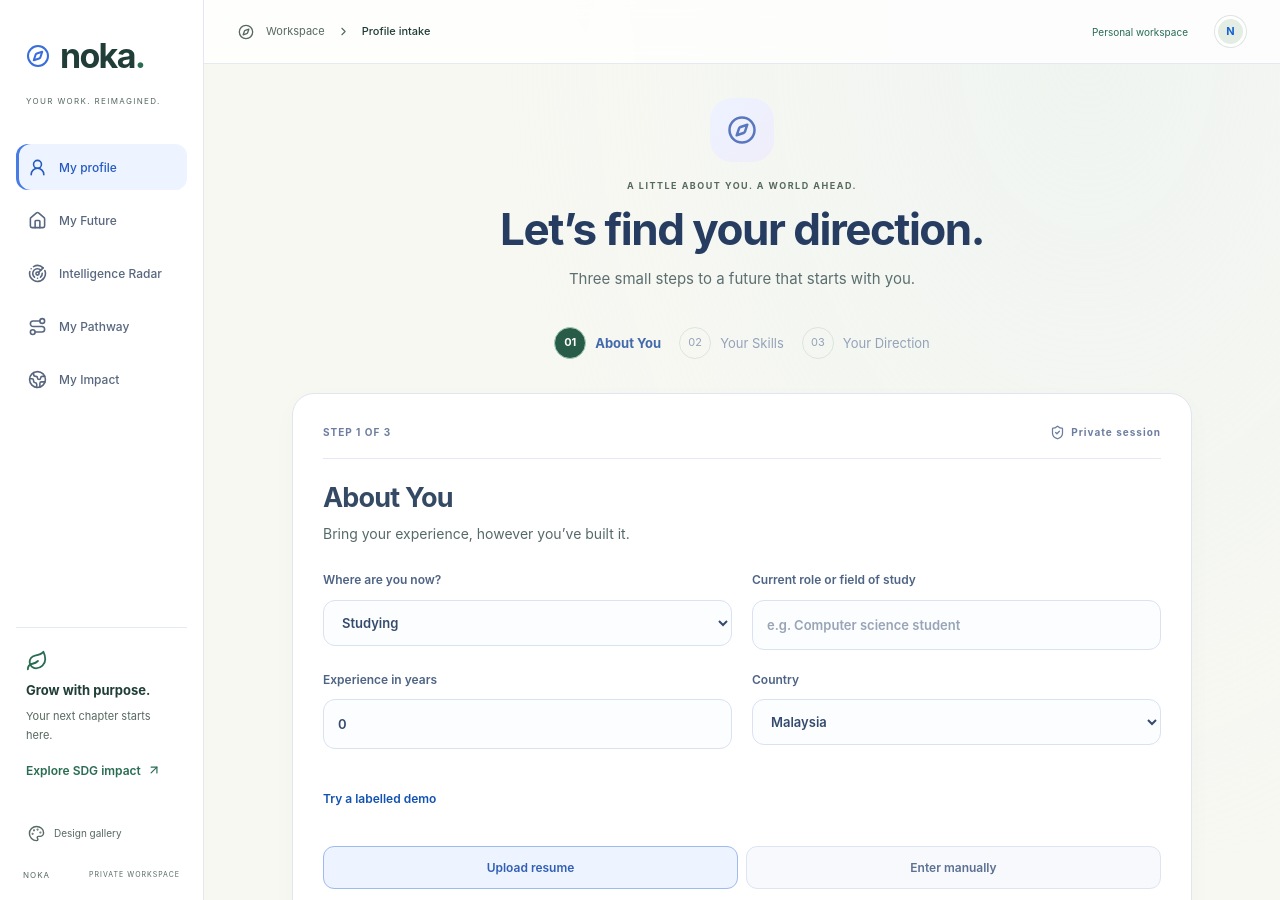
Scenario: private profile journey › preserves input on server failure and supports a successful retry
Click the button "Enter manually": (954, 868) [746, 846, 1161, 889]
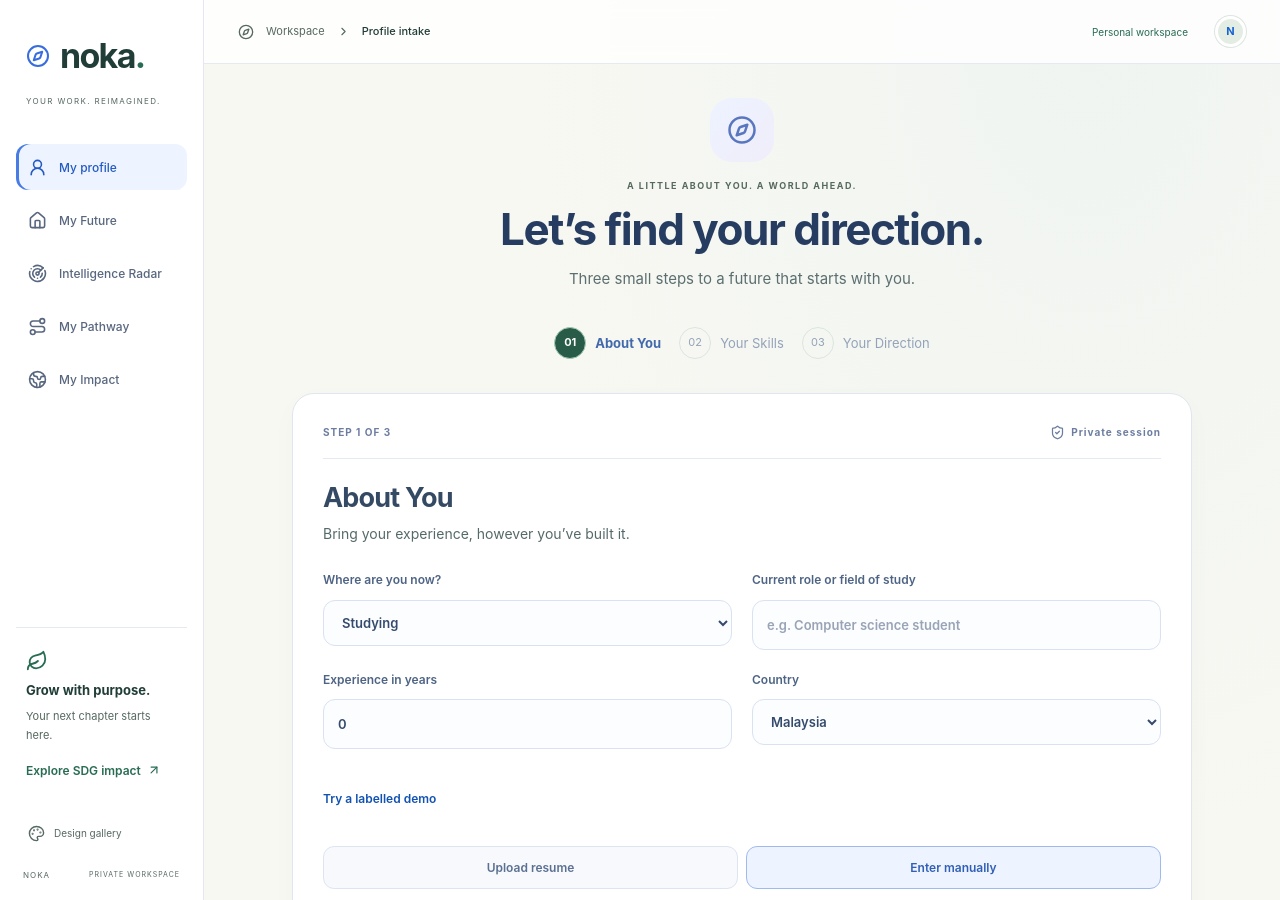
In the field labelled "Current role or field of study": (956, 625) [752, 600, 1161, 650], type "Computer science"
(page scrolled)
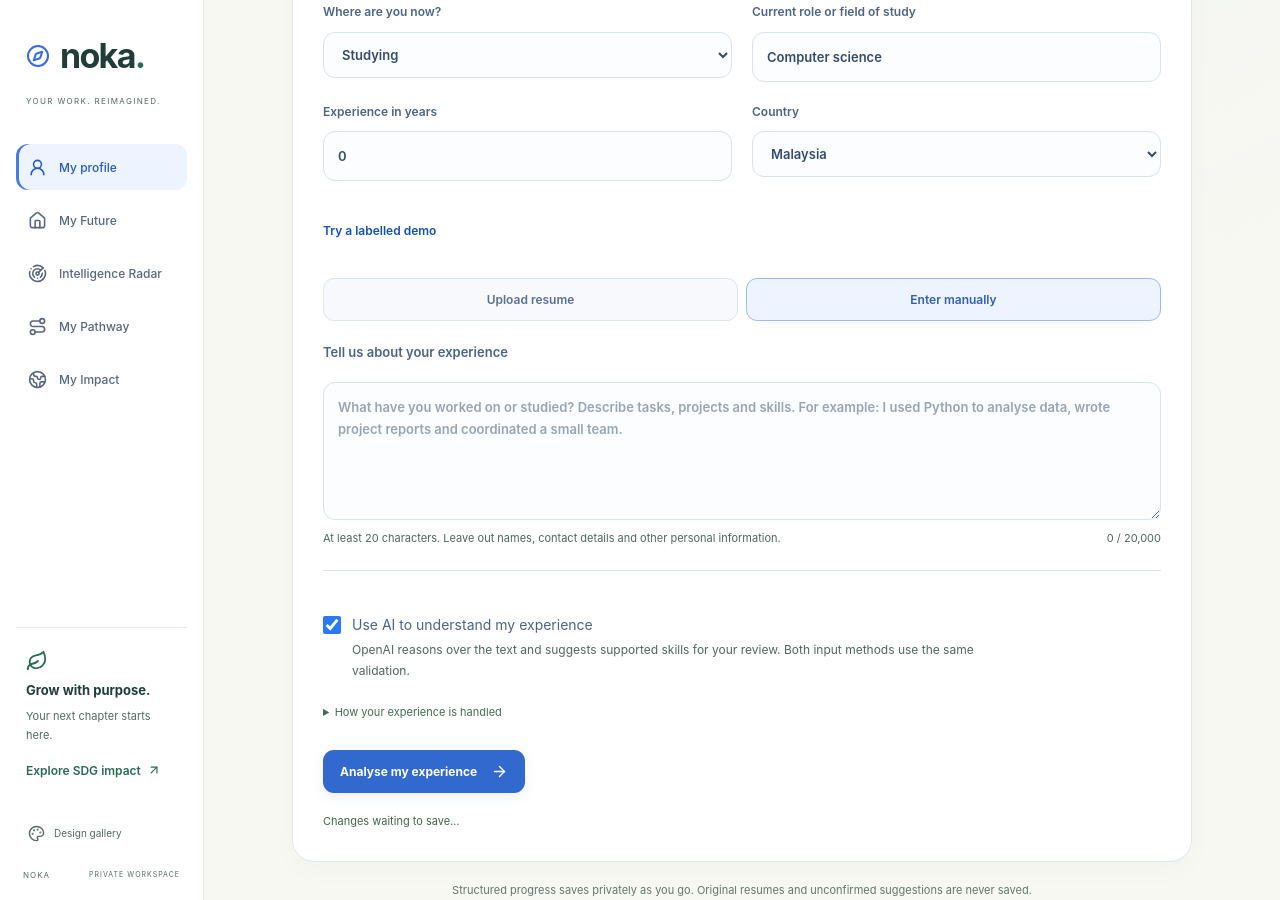
Replace the text in the text box labelled "your experience" with "I used Python programming to build tools, wrote reports and used critical thinking.": (742, 451) [323, 382, 1161, 520]
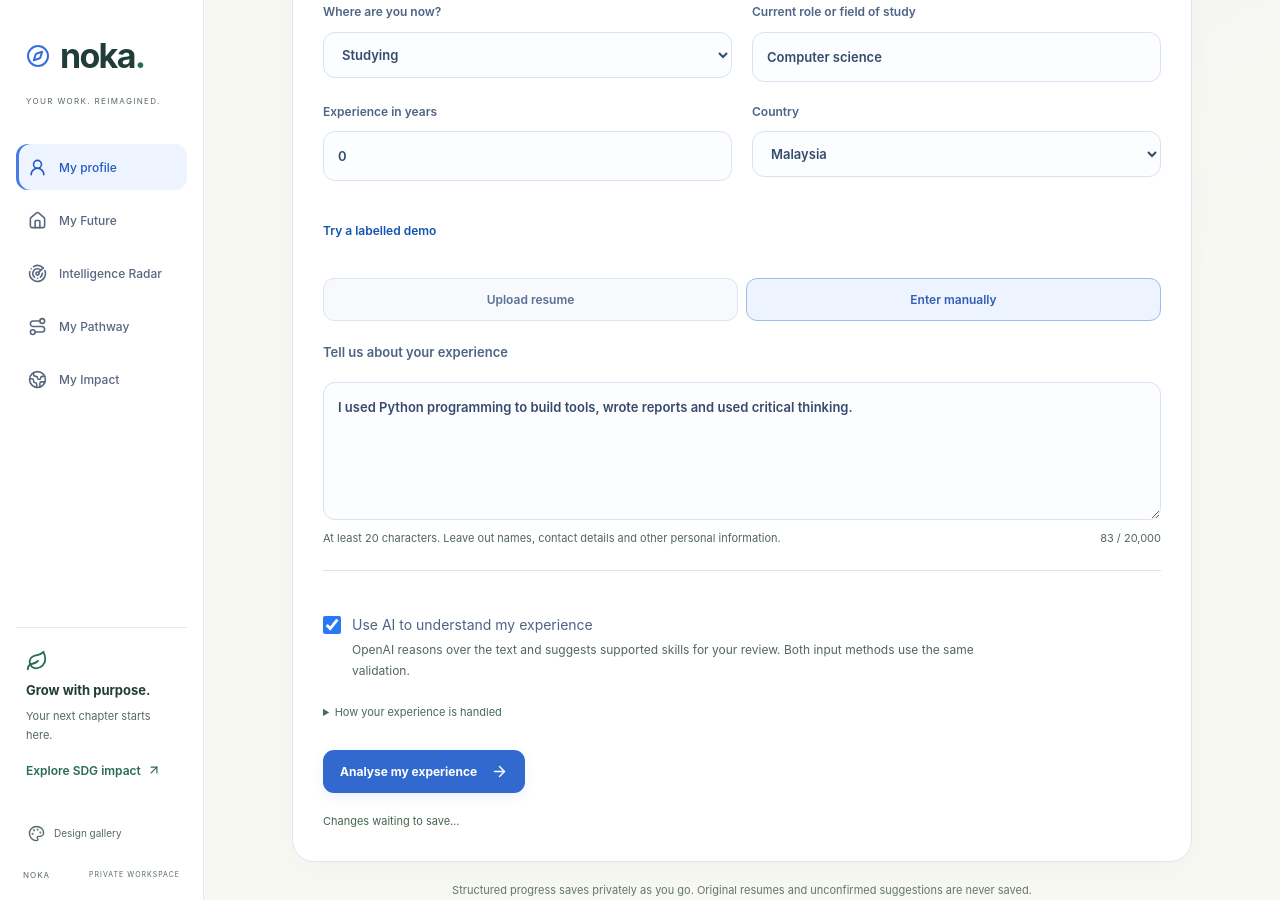
Click the button "Analyse my experience": (424, 771) [323, 750, 525, 793]
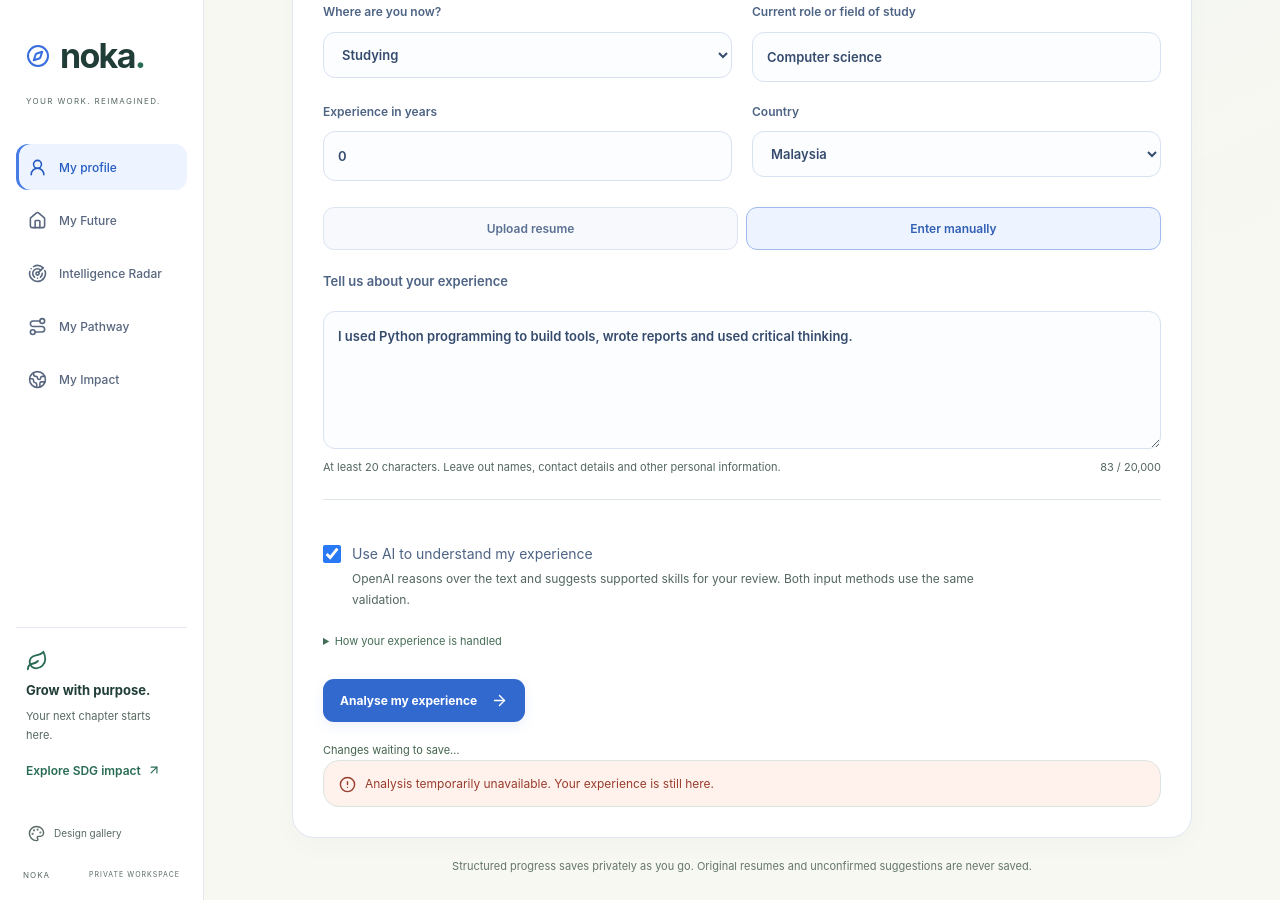
Expected: the message "Analysis temporarily unavailable. Your experience is still here." is shown, [323, 760, 1161, 807]
Click the button "Analyse my experience": (424, 700) [323, 679, 525, 722]
(page scrolled)
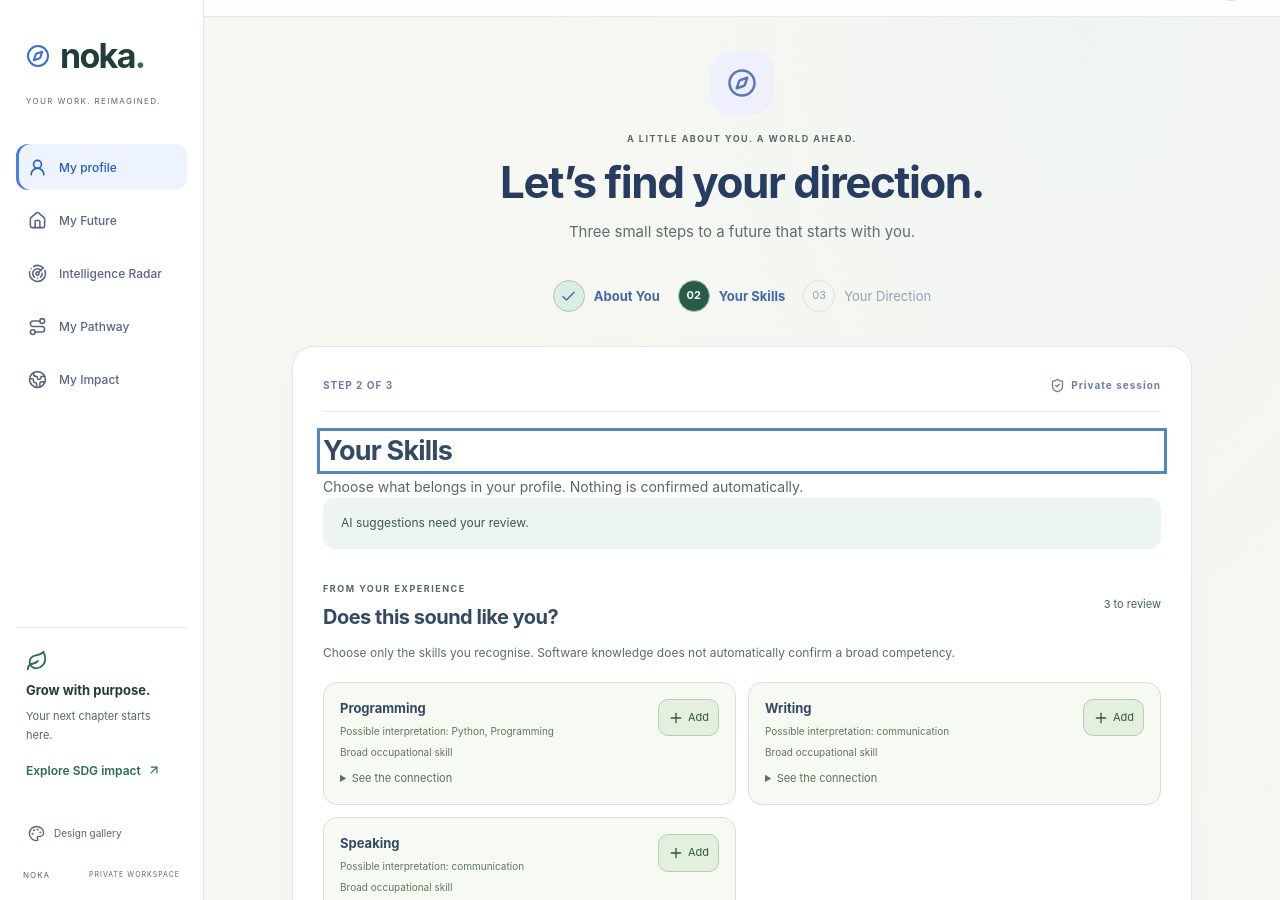
Expected: the heading "Your Skills" is shown, [323, 434, 452, 467]
Expected: the button with aria-label "Add Programming" is enabled, [658, 699, 719, 736]
